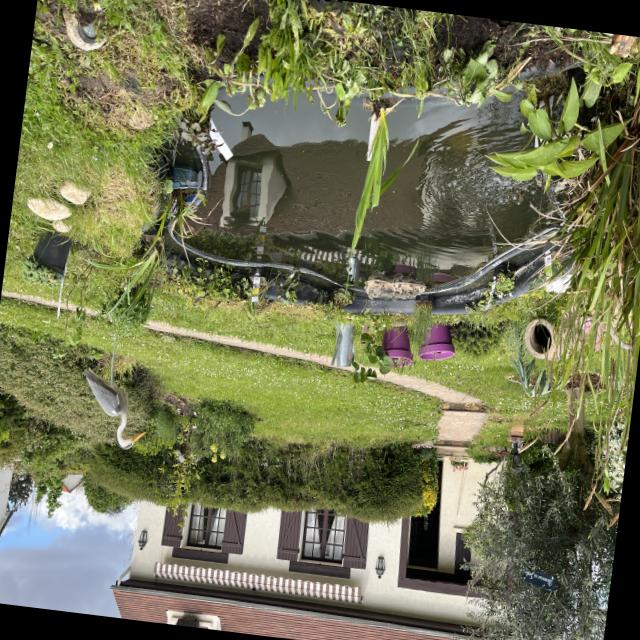Heron: (71, 304, 163, 458)
